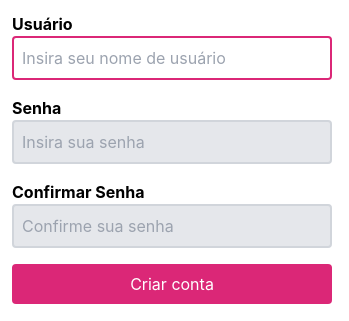
Test: <SignUpForm /> › should fill and submit the form
Step 1. Type "usertest" into the field labelled "Usuário" → (172, 58), box [12,36,332,80]
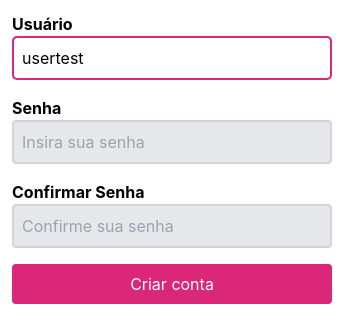
Step 2. Type "1234" into the password field labelled "Senha" → (172, 142), box [12,120,332,164]
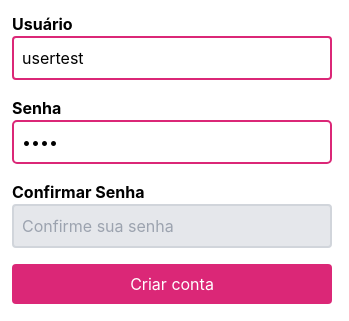
Step 3. Type "1234" into the password field labelled "Confirmar Senha" → (172, 226), box [12,204,332,248]
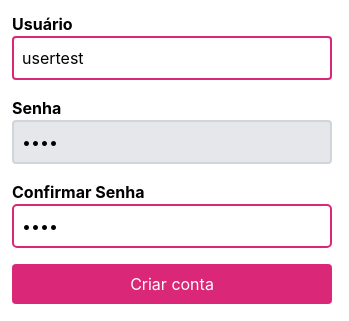
Step 4. Click the button "Criar conta" → (172, 284), box [12,264,332,304]
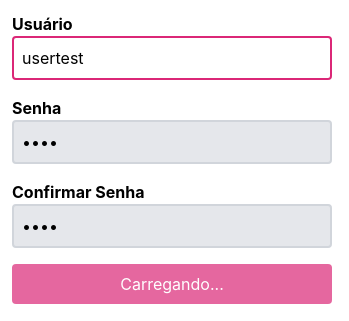
Check: the text "Carregando..." is shown, box [120,274,224,294]
